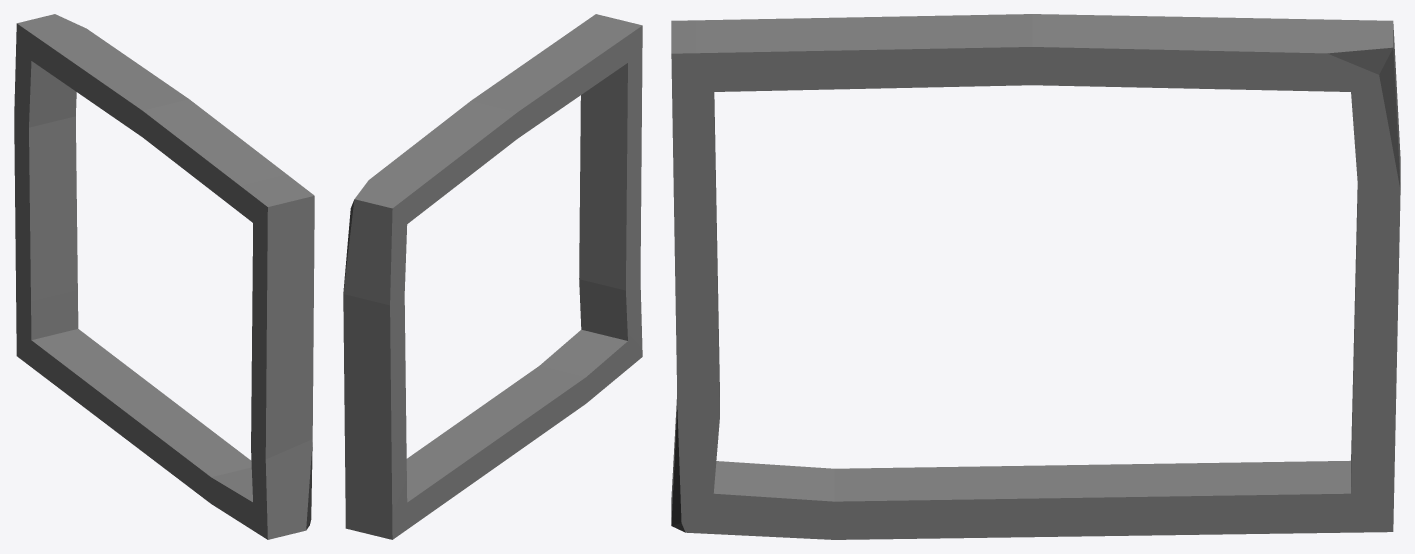
Rendered from builder_23.FBX.
The picture shows the model from 3 angles, left to right: view 1: azimuth 30°, elevation 25°; view 2: azimuth 150°, elevation 25°; view 3: azimuth 270°, elevation 25°; orthographic projection. The views are drawn at different scales.
Parts seen in each view (by area): view 1: builder_23; view 2: builder_23; view 3: builder_23.
Boxes of the visible parts, left/top/right/bottom form: builder_23: left=14, top=14, right=314, bottom=539; builder_23: left=343, top=14, right=642, bottom=539; builder_23: left=671, top=14, right=1400, bottom=539.
Size of the model in its own units: 5.44 by 38.05 by 50.99.
